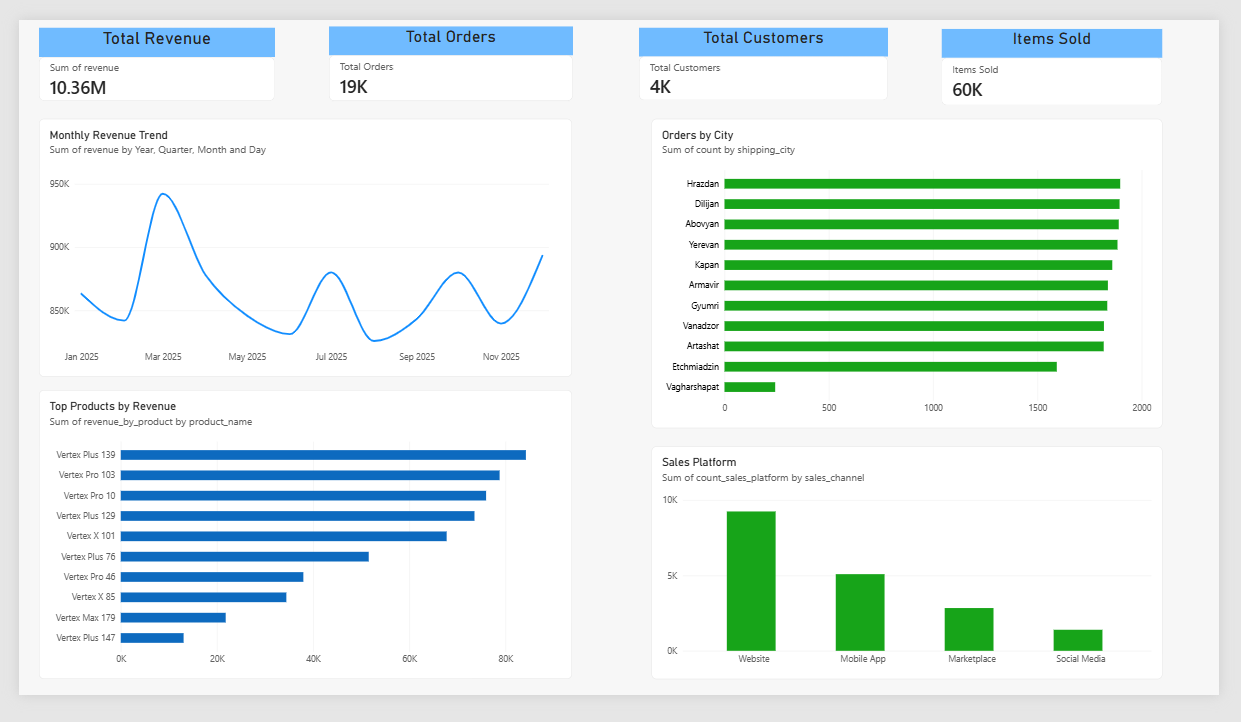

The page's visual inventory and layout, read from the dashboard file:
{"tool":"powerbi","page":{"name":"Overview","canvas":[1920,1080],"ordinal":0},"visuals":[{"type":"cardVisual","title":"Total Revenue","fields":{"Data":["Sum(public vw_monthly_revenue.revenue)"]},"box":[32.5,12.5,377.5,117.5],"z":0},{"type":"cardVisual","title":"Total Orders","fields":{"Data":["public customers.Total Orders"]},"box":[495,10,390,120],"z":1},{"type":"cardVisual","title":"Total Customers","fields":{"Data":["public customers.Total Customers"]},"box":[992.5,12.5,398.3,116.7],"z":2},{"type":"cardVisual","title":"Items Sold","fields":{"Data":["public customers.Items Sold"]},"box":[1476.7,13.3,353.3,123.3],"z":3},{"type":"lineChart","title":"Monthly Revenue Trend","fields":{"Category":["public vw_monthly_revenue.month.Variation.Date Hierarchy.Year","public vw_monthly_revenue.month.Variation.Date Hierarchy.Quarter","public vw_monthly_revenue.month.Variation.Date Hierarchy.Month","public vw_monthly_revenue.month.Variation.Date Hierarchy.Day"],"Y":["Sum(public vw_monthly_revenue.revenue)"]},"box":[32.5,157.5,852.5,412.5],"z":4},{"type":"barChart","title":"Top Products by Revenue","fields":{"Category":["public vw_product_revenue.product_name"],"Y":["Sum(public vw_product_revenue.revenue_by_product)"]},"box":[32.5,592.5,852.5,462.5],"z":5},{"type":"clusteredColumnChart","title":"Sales Platform","fields":{"Category":["public vw_sales_by_channel.sales_channel"],"Y":["Sum(public vw_sales_by_channel.count_sales_platform)"]},"box":[1012.5,682.5,817.5,372.5],"z":6},{"type":"barChart","title":"Orders by City","fields":{"Category":["public vw_orders_by_city.shipping_city"],"Y":["Sum(public vw_orders_by_city.count)"]},"box":[1012.5,157.5,817.5,495],"z":7}]}

Visuals, with their boxes on the page's 1920x1080 design canvas (x1, y1, x2, y2). These are canvas units, not pixel positions in the 1241x722 screenshot, which may show the page scaled, cropped or inside an application window:
"Total Revenue" cardVisual: (left=32, top=12, right=410, bottom=130)
"Total Orders" cardVisual: (left=495, top=10, right=885, bottom=130)
"Total Customers" cardVisual: (left=992, top=12, right=1391, bottom=129)
"Items Sold" cardVisual: (left=1477, top=13, right=1830, bottom=137)
"Monthly Revenue Trend" lineChart: (left=32, top=158, right=885, bottom=570)
"Top Products by Revenue" barChart: (left=32, top=592, right=885, bottom=1055)
"Sales Platform" clusteredColumnChart: (left=1012, top=682, right=1830, bottom=1055)
"Orders by City" barChart: (left=1012, top=158, right=1830, bottom=652)
